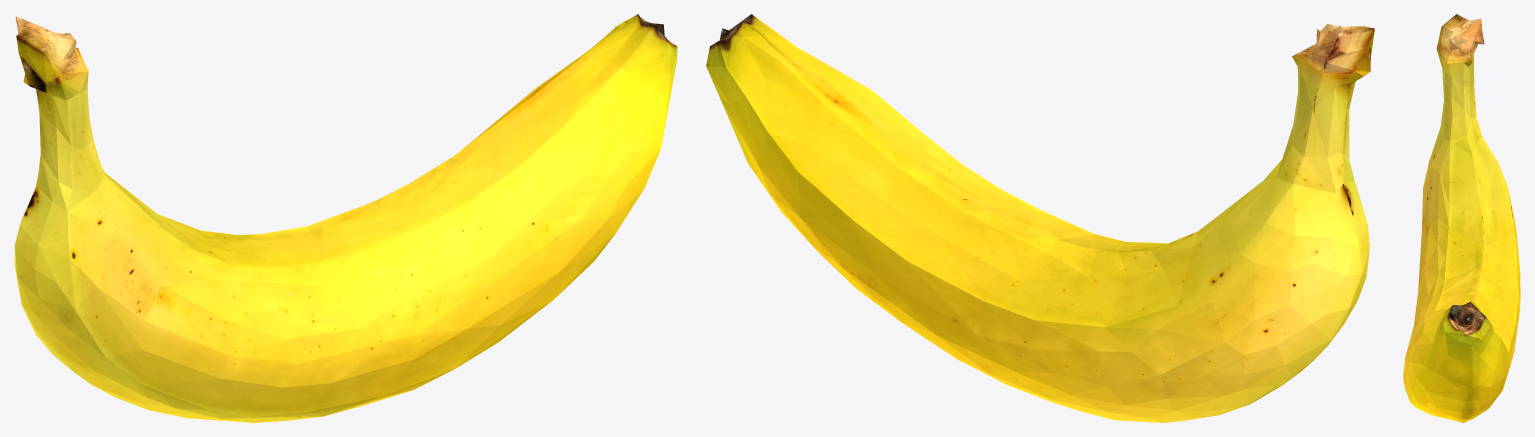
File: banana-v1.glb
3 renders of one model, left to right at view 1: azimuth 30°, elevation 25°; view 2: azimuth 150°, elevation 25°; view 3: azimuth 270°, elevation 25°, orthographic. The views are drawn at different scales.
Parts seen in each view (by area): view 1: banana; view 2: banana; view 3: banana.
Part boxes in pixels (<box>): banana: <box>14,14,677,422</box>; banana: <box>706,14,1374,422</box>; banana: <box>1403,14,1520,422</box>.
Bounding box in the file's own units: 6.79 × 4.42 × 1.62.
Materials: 1 (1 with a texture image).
